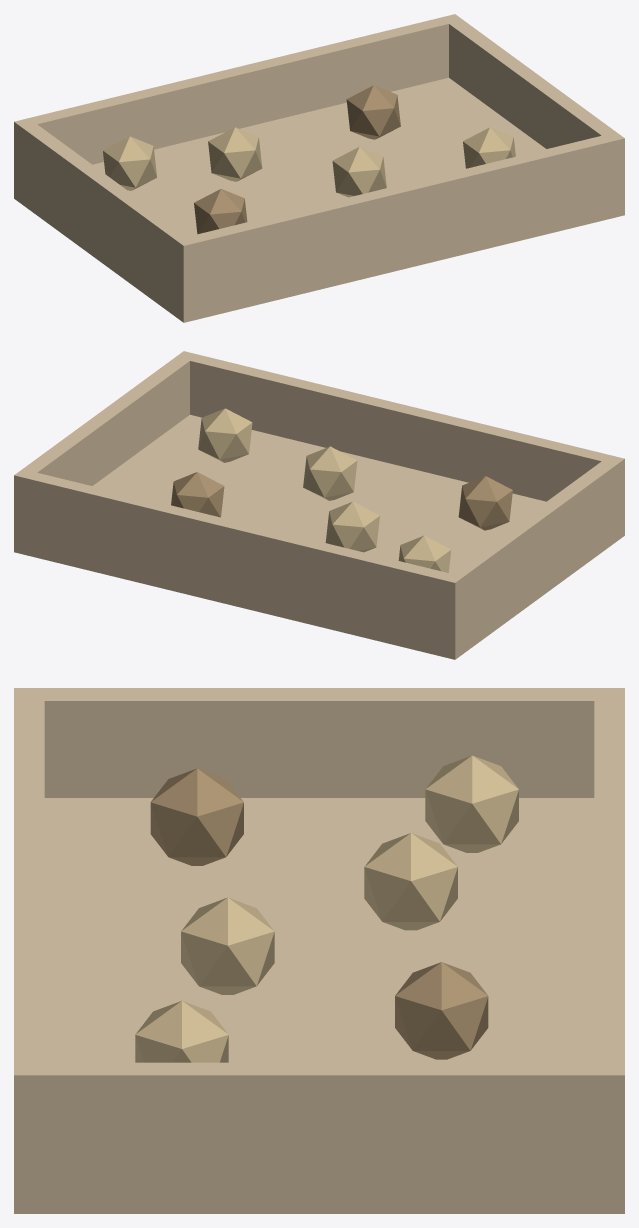
File: prop-oak-gall-tray.fbx
3 renders of one model, top to bottom at view 1: azimuth 30°, elevation 25°; view 2: azimuth 150°, elevation 25°; view 3: azimuth 270°, elevation 25°, orthographic. The views are drawn at different scales.
Parts seen in each view (by area): view 1: prop-oak-gall-tray; view 2: prop-oak-gall-tray; view 3: prop-oak-gall-tray.
Part boxes in pixels (x1,y1,x2,y2): prop-oak-gall-tray: [14, 14, 624, 322]; prop-oak-gall-tray: [14, 351, 624, 659]; prop-oak-gall-tray: [14, 688, 624, 1213].
Bounding box in the file's own units: 30 × 5 × 20.
